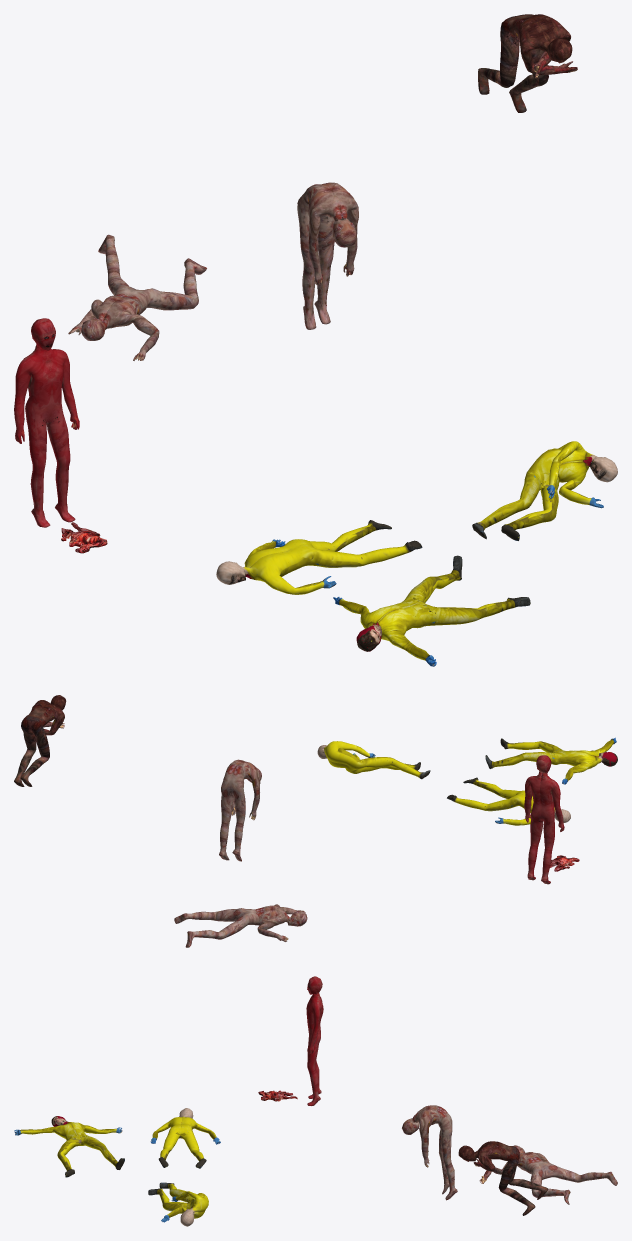
The model's file is corpses.fbx.
3 views of the same model, one above another, from view 1: azimuth 30°, elevation 25°; view 2: azimuth 150°, elevation 25°; view 3: azimuth 270°, elevation 25° (orthographic). The views are drawn at different scales.
Visible parts, largest first — view 1: Psx Man mesh .006, Psx Man mesh .001, Psx Man mesh .007, Psx Man mesh .009, Psx Man mesh .008, Psx Man mesh .003, Psx Man mesh .002; view 2: Psx Man mesh .006, Psx Man mesh .002, Psx Man mesh .001, Psx Man mesh .003, Psx Man mesh .009, Psx Man mesh .008, Psx Man mesh .007; view 3: Psx Man mesh .003, Psx Man mesh .001, Psx Man mesh .009, Psx Man mesh .002, Psx Man mesh .006, Psx Man mesh .007, Psx Man mesh .008.
Part boxes in pixels (x1=…): Psx Man mesh .006: x1=14, y1=318, x2=79, y2=527; Psx Man mesh .001: x1=297, y1=182, x2=358, y2=329; Psx Man mesh .007: x1=216, y1=520, x2=422, y2=594; Psx Man mesh .009: x1=333, y1=555, x2=530, y2=666; Psx Man mesh .008: x1=472, y1=441, x2=617, y2=540; Psx Man mesh .003: x1=478, y1=14, x2=577, y2=112; Psx Man mesh .002: x1=68, y1=234, x2=206, y2=360; Psx Man mesh .006: x1=524, y1=755, x2=564, y2=884; Psx Man mesh .002: x1=174, y1=904, x2=307, y2=947; Psx Man mesh .001: x1=219, y1=759, x2=261, y2=861; Psx Man mesh .003: x1=14, y1=695, x2=66, y2=786; Psx Man mesh .009: x1=485, y1=737, x2=617, y2=784; Psx Man mesh .008: x1=317, y1=741, x2=430, y2=779; Psx Man mesh .007: x1=447, y1=777, x2=570, y2=825; Psx Man mesh .003: x1=458, y1=1141, x2=548, y2=1215; Psx Man mesh .001: x1=402, y1=1105, x2=457, y2=1200; Psx Man mesh .009: x1=14, y1=1116, x2=124, y2=1177; Psx Man mesh .002: x1=492, y1=1145, x2=617, y2=1204; Psx Man mesh .006: x1=306, y1=976, x2=323, y2=1105; Psx Man mesh .007: x1=150, y1=1108, x2=220, y2=1168; Psx Man mesh .008: x1=148, y1=1182, x2=208, y2=1226.
Bounding box in the file's own units: 1016 × 338 × 1268.
Materials: 14 (14 with a texture image).
